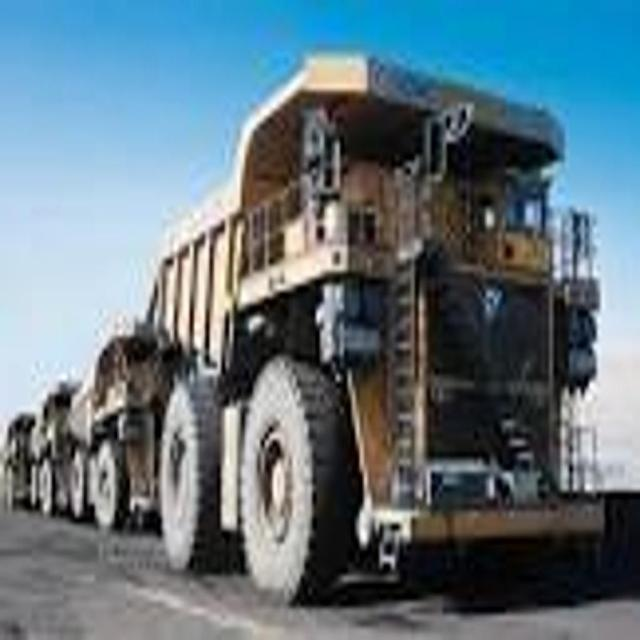dump_truck: (155, 41, 610, 603), (70, 285, 163, 533), (34, 345, 78, 525), (1, 397, 35, 522)
